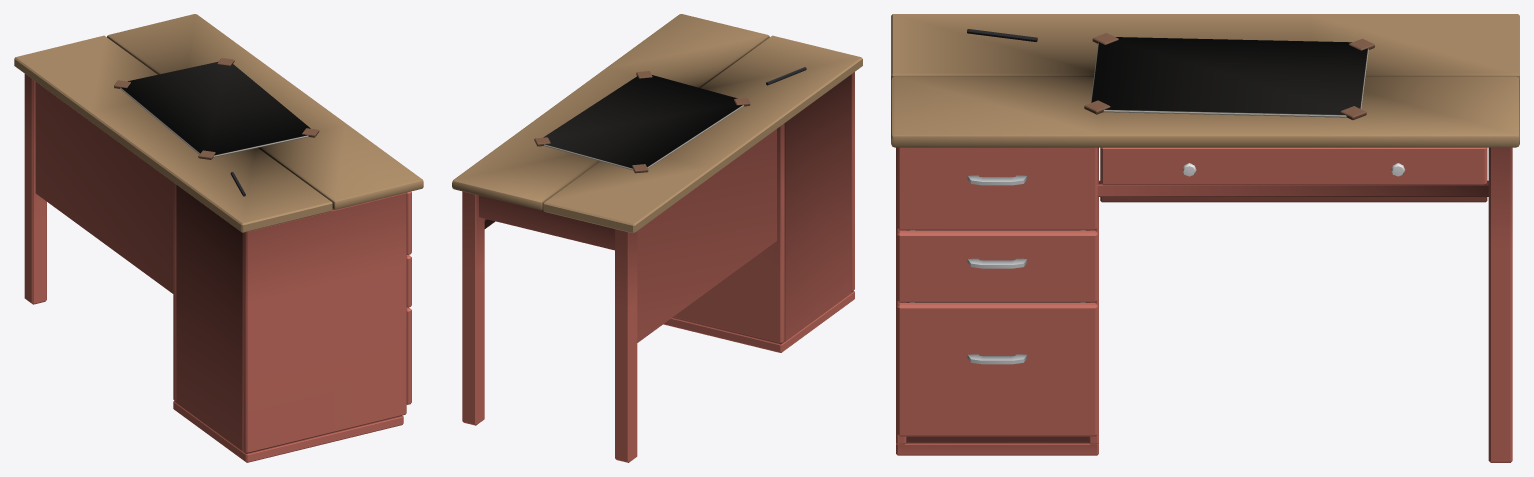
Rendered from desk.glb.
3 views of the same model, side by side, from view 1: azimuth 30°, elevation 25°; view 2: azimuth 150°, elevation 25°; view 3: azimuth 270°, elevation 25° (orthographic). The views are drawn at different scales.
Parts seen in each view (by area): view 1: PART, DRAWER_4; view 2: PART; view 3: PART, DRAWER_4, DRAWER_2, DRAWER_1, DRAWER_3.
Part boxes in pixels (x1,y1,x2,y2): PART: [14, 14, 423, 462]; DRAWER_4: [406, 307, 411, 404]; PART: [452, 14, 862, 462]; PART: [891, 14, 1519, 462]; DRAWER_4: [897, 302, 1097, 436]; DRAWER_2: [897, 147, 1097, 230]; DRAWER_1: [1100, 147, 1486, 185]; DRAWER_3: [897, 230, 1097, 302].
Bounding box in the file's own units: 0.6 × 0.7698 × 1.3.
